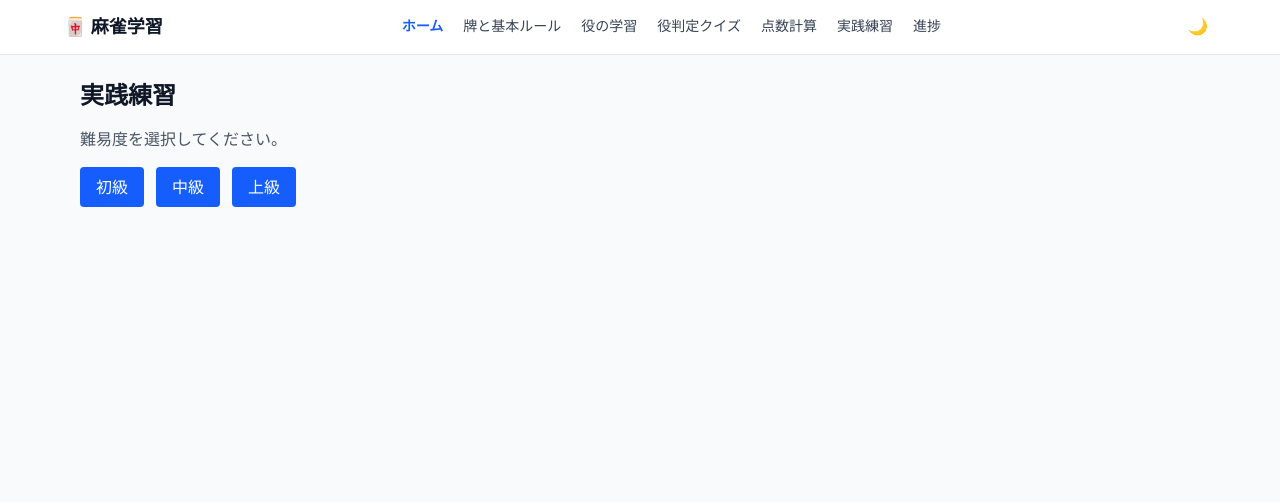
PracticePage 必須コンテンツ › 難易度選択後に対局画面へ遷移し手牌が表示される（要件5.1）
The width and height of the screenshot is (1280, 502).
Click the button "初級".
click(112, 187)  # box [80, 167, 144, 207]
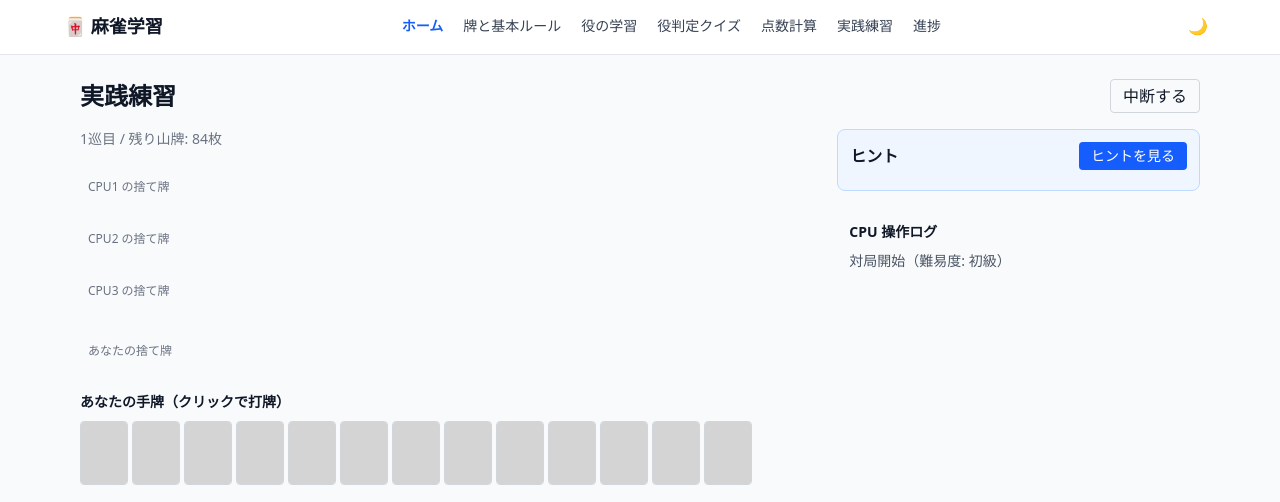
Check: the text "あなたの手牌（クリックで打牌）" is shown, box [80, 392, 290, 411]
